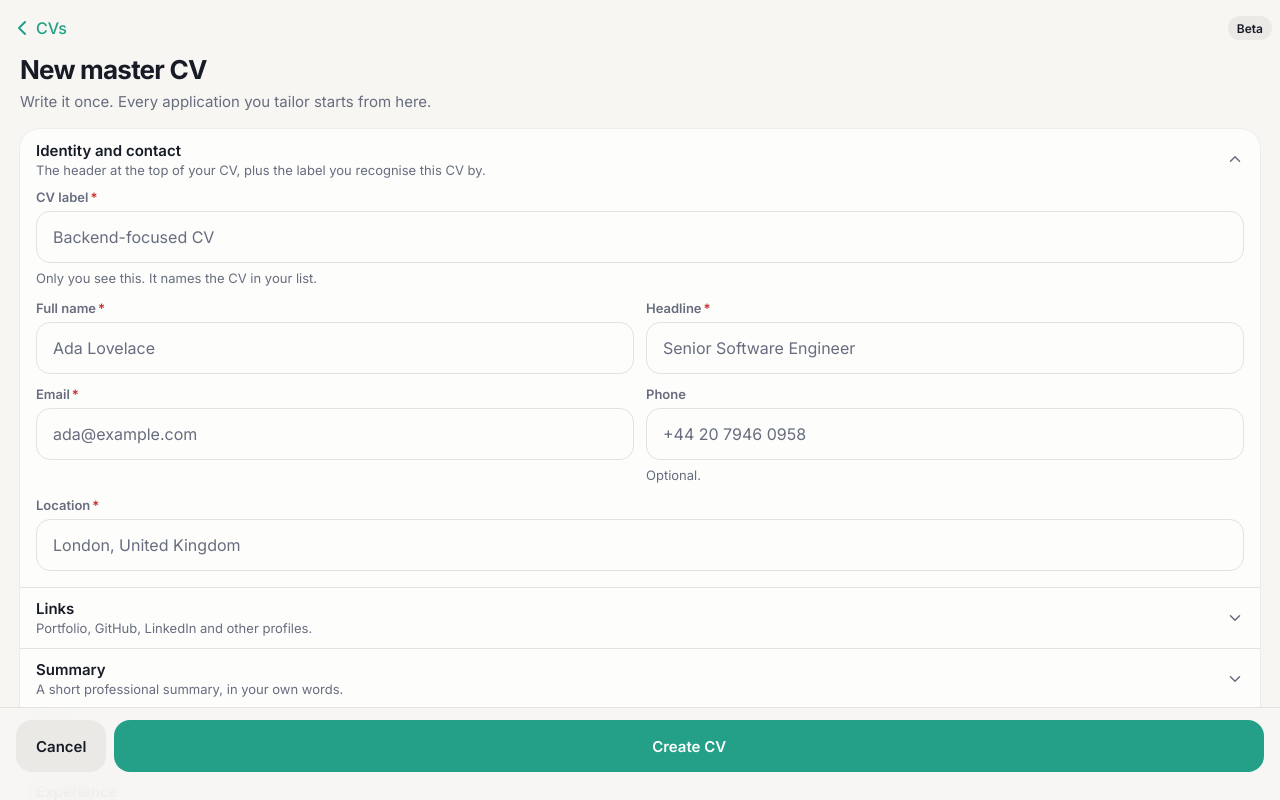
Test: the new master CV page below md › an invalid submit opens the failing section, Needs a fix, and sends nothing
Expected: the field labelled "CV label" is shown, [36, 211, 1244, 263]
Click the button "Links". click: (55,609)
box: [20, 588, 1260, 648]
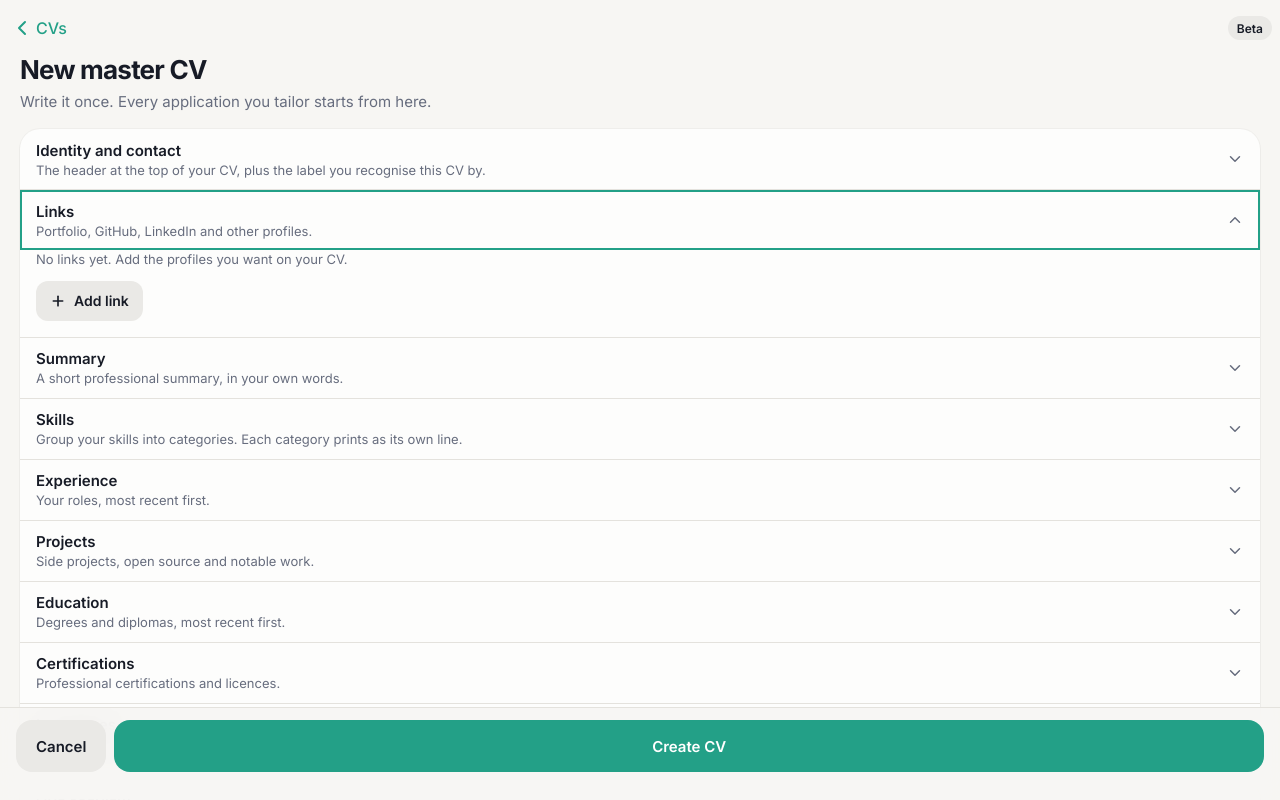
Click the button "Create CV". click: (689,746)
box: [114, 720, 1264, 772]
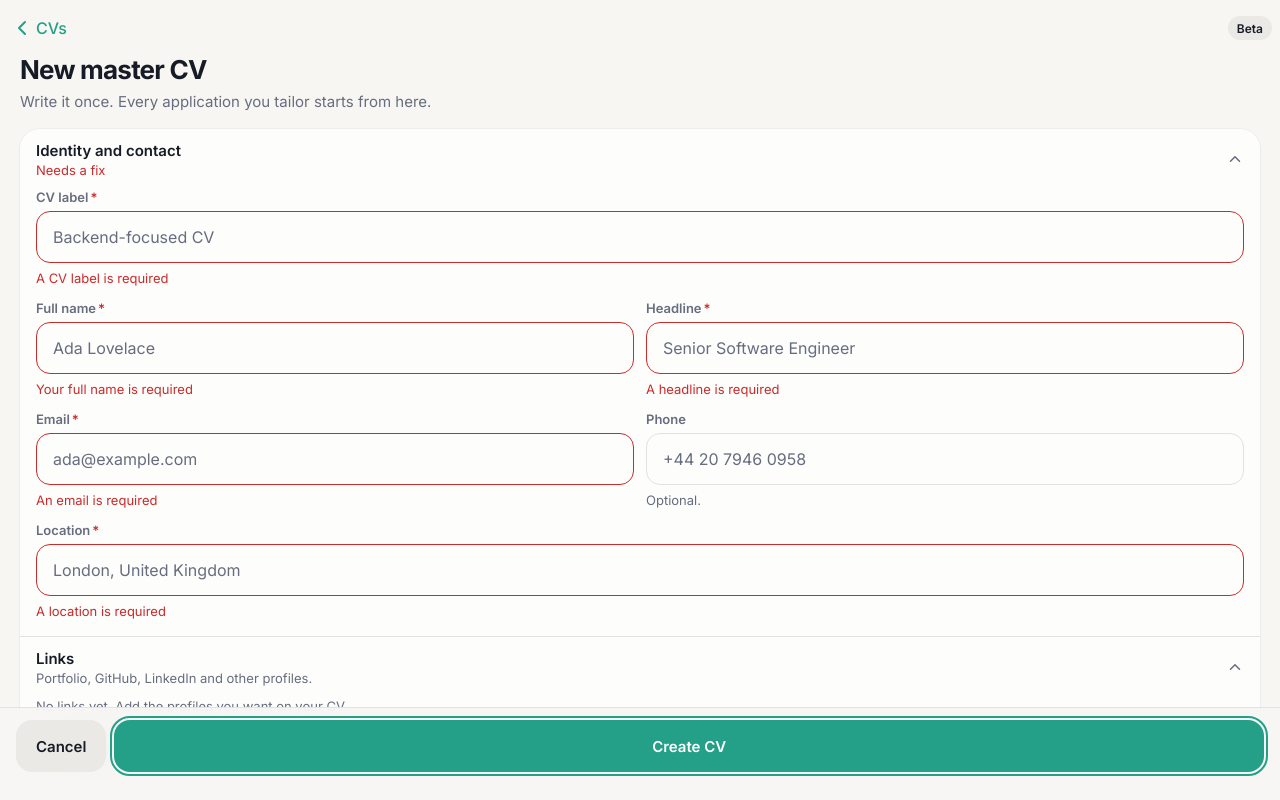
Result: the button "Identity and contact Needs a fix" is expanded at [20, 129, 1260, 189]
